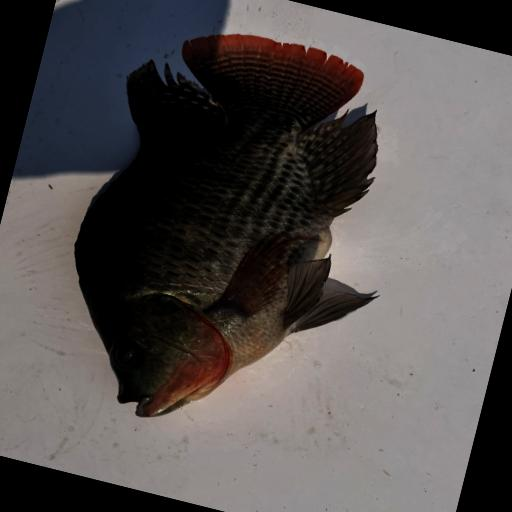Tilapia: (39, 4, 435, 467)
